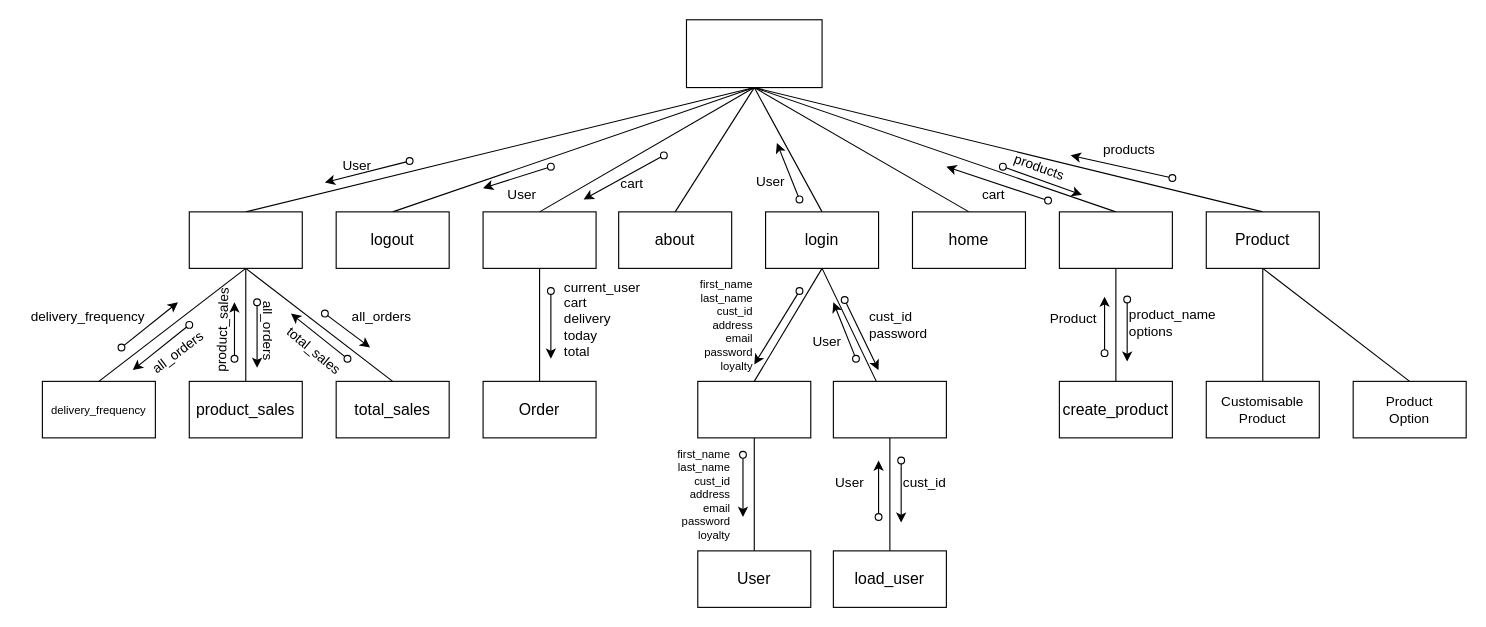
This 1486x627 diagram has some shape labels left out. The shapes that lost their labels are listed below. From the top down, each one's centre as x and y in pixels, then its label:
At (753,53): "Main".
At (245,239): "admin".
At (539,239): "cart_page".
At (1115,239): "menu".
At (754,409): "action_signup".
At (889,409): "action_login".
